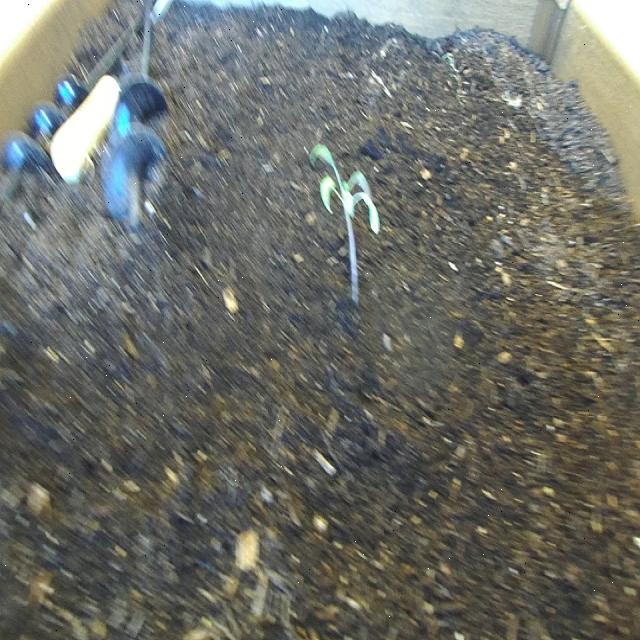Healthy: (303, 128, 382, 310)
